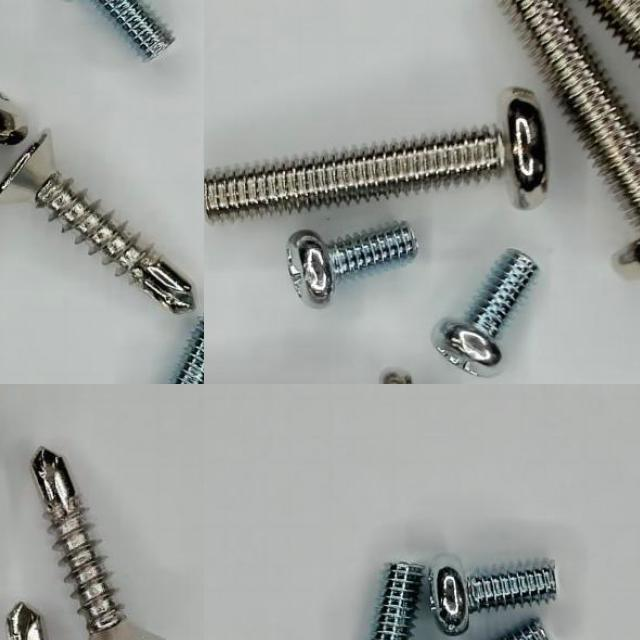Screw: (204, 87, 548, 220), (0, 131, 194, 314), (500, 0, 640, 227), (31, 447, 161, 640), (431, 249, 538, 377), (286, 222, 417, 307), (428, 558, 556, 636), (94, 0, 174, 59), (372, 564, 423, 640), (585, 0, 640, 60)
